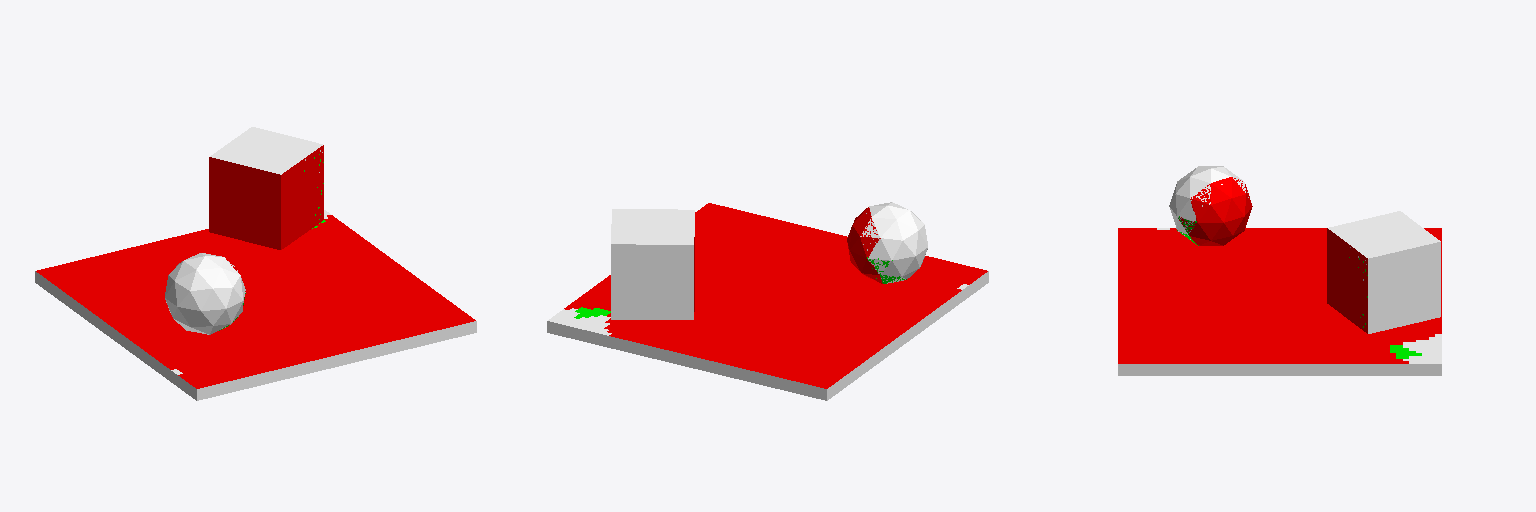
The picture shows the model from 3 angles: view 1: azimuth 30°, elevation 25°; view 2: azimuth 150°, elevation 25°; view 3: azimuth 270°, elevation 25°; orthographic projection.
Parts seen in each view (by area): view 1: Cube_Cube.001, Cube.001_Cube.002, Icosphere; view 2: Cube_Cube.001, Cube.001_Cube.002, Icosphere; view 3: Cube_Cube.001, Cube.001_Cube.002, Icosphere.
Boxes of the visible parts, x1=… form: Cube_Cube.001: x1=35, y1=210, x2=476, y2=400; Cube.001_Cube.002: x1=209, y1=127, x2=323, y2=249; Icosphere: x1=165, y1=253, x2=245, y2=334; Cube_Cube.001: x1=547, y1=203, x2=988, y2=400; Cube.001_Cube.002: x1=611, y1=209, x2=694, y2=319; Icosphere: x1=847, y1=202, x2=927, y2=283; Cube_Cube.001: x1=1118, y1=228, x2=1441, y2=375; Cube.001_Cube.002: x1=1327, y1=211, x2=1440, y2=333; Icosphere: x1=1169, y1=166, x2=1252, y2=245.
Size of the model in its own units: 7.75 by 2.74 by 7.75.
Materials: 3 (3 with a texture image).